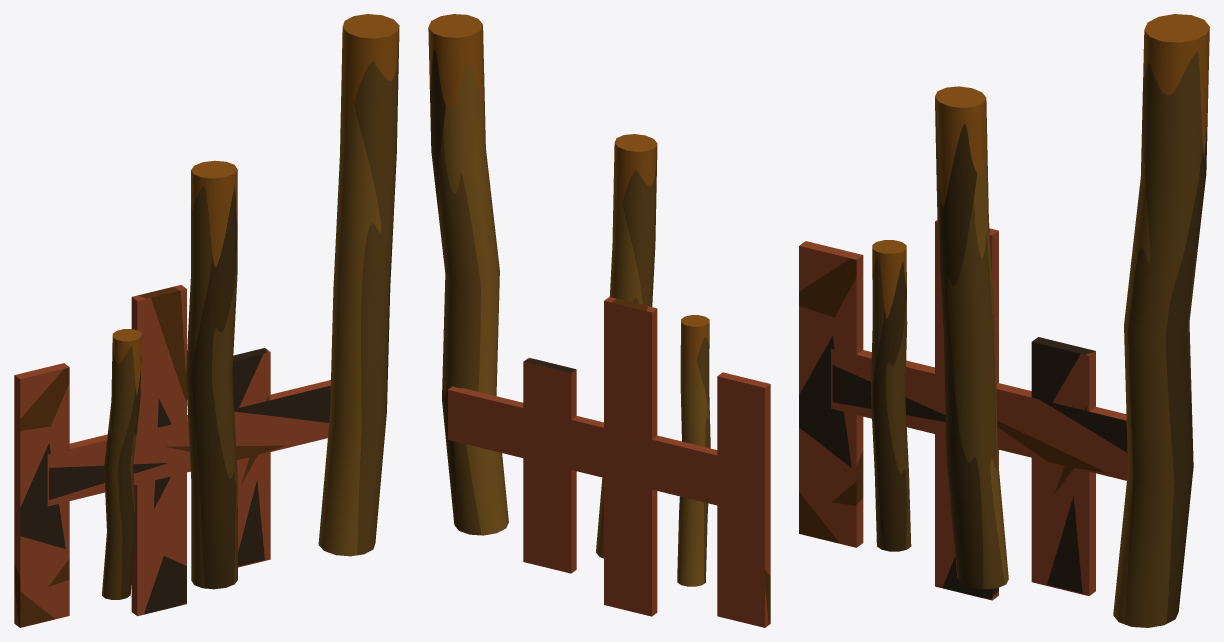
The model's file is PRMC_Puerta03.FBX.
3 renders of one model, left to right at view 1: azimuth 30°, elevation 25°; view 2: azimuth 150°, elevation 25°; view 3: azimuth 330°, elevation 25°, orthographic. The views are drawn at different scales.
Parts seen in each view (by area): view 1: PRMC_Puerta03; view 2: PRMC_Puerta03; view 3: PRMC_Puerta03.
Boxes of the visible parts, x1,y1,x2,y2 form: PRMC_Puerta03: [14, 14, 399, 627]; PRMC_Puerta03: [428, 14, 770, 627]; PRMC_Puerta03: [799, 14, 1209, 627].
Size of the model in its own units: 3.66 by 5.25 by 0.76.
